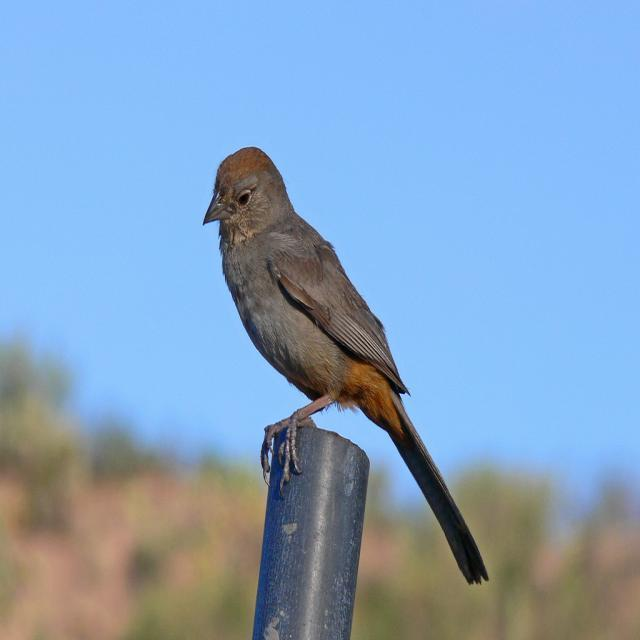bird: (174, 94, 503, 594)
